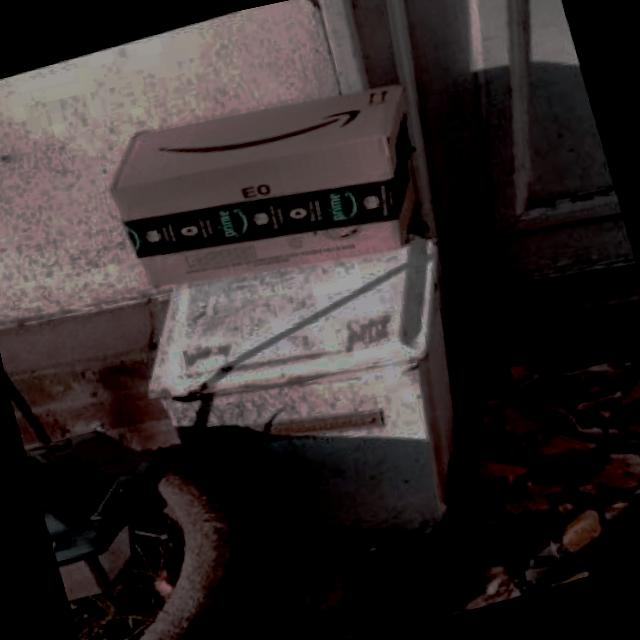Box: (364, 230, 472, 322), (5, 364, 90, 476), (228, 313, 343, 395), (240, 242, 348, 328), (0, 241, 60, 324), (0, 314, 48, 389)
